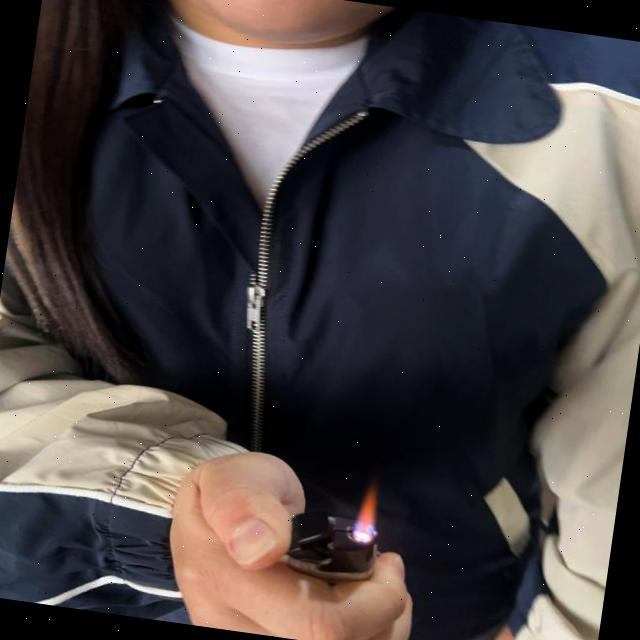fire: (353, 480, 383, 547)
